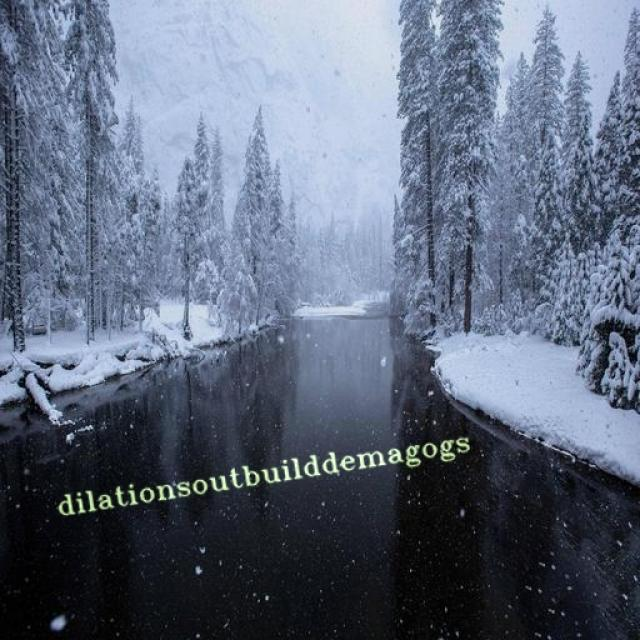watermark: (50, 428, 471, 520)
